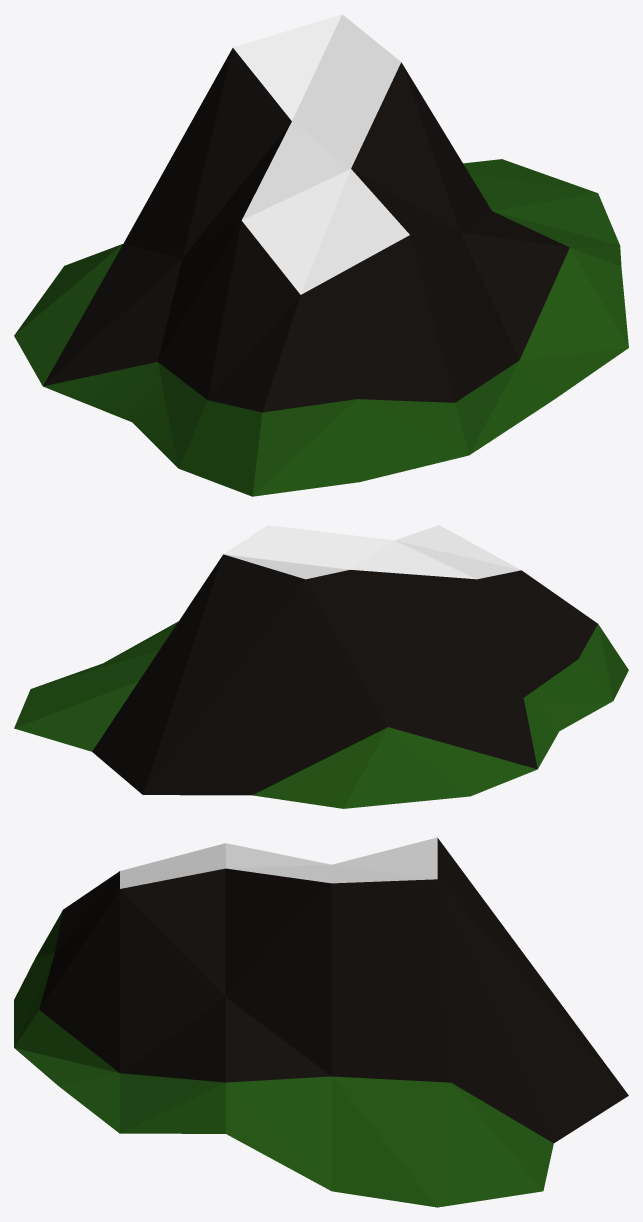
The model's file is Mountain_4.fbx.
3 renders of one model, top to bottom at view 1: azimuth 30°, elevation 25°; view 2: azimuth 150°, elevation 25°; view 3: azimuth 270°, elevation 25°, orthographic. The views are drawn at different scales.
Visible parts, largest first — view 1: Mountain_4; view 2: Mountain_4; view 3: Mountain_4.
Boxes of the visible parts, x1,y1,x2,y2 form: Mountain_4: (14, 14, 628, 496); Mountain_4: (14, 525, 628, 808); Mountain_4: (14, 837, 628, 1207).
Size of the model in its own units: 1480 by 556 by 1432.
